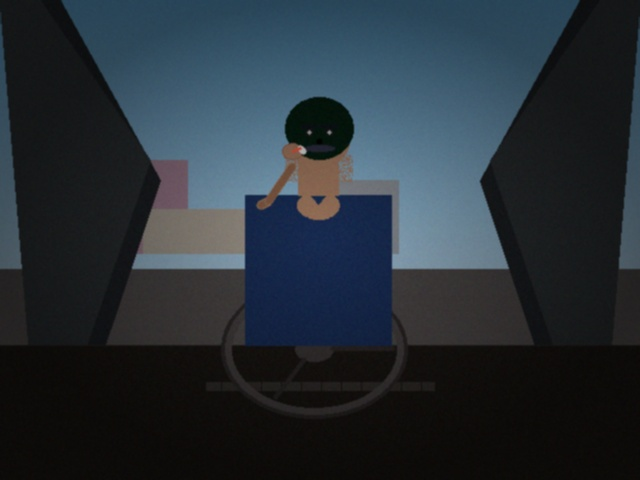smoking: (282, 136, 313, 166)
